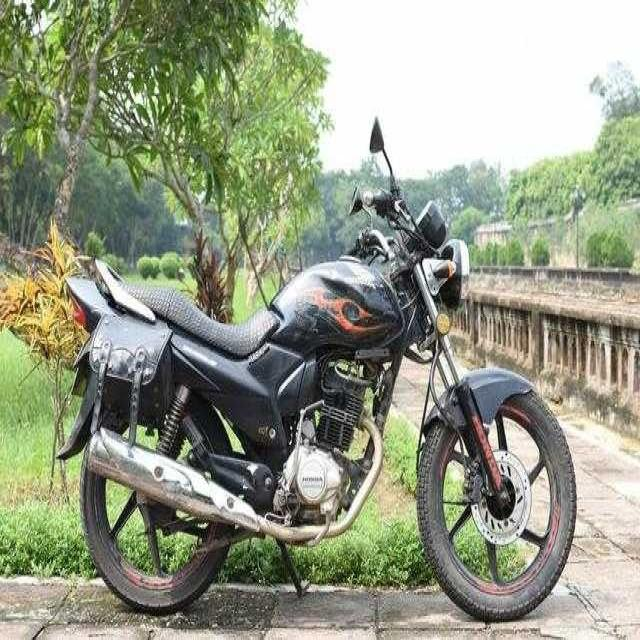motorcycle: (62, 119, 582, 618)
